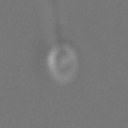normal: (44, 1, 73, 42)
